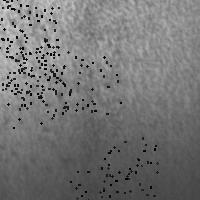pitted_surface: (1, 1, 196, 149), (11, 53, 69, 112), (0, 37, 57, 97), (61, 56, 120, 113), (99, 137, 156, 195), (38, 51, 94, 110), (0, 0, 55, 57), (1, 4, 58, 59), (0, 76, 53, 127), (70, 168, 130, 200)
